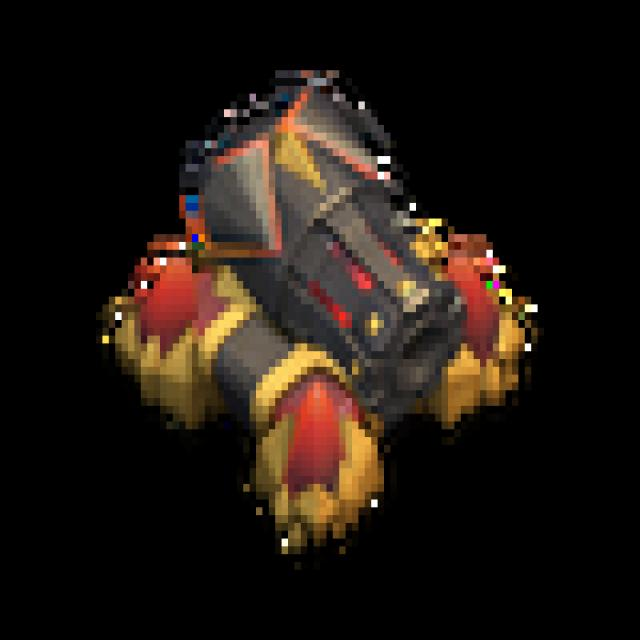cannon: (71, 51, 558, 572)
